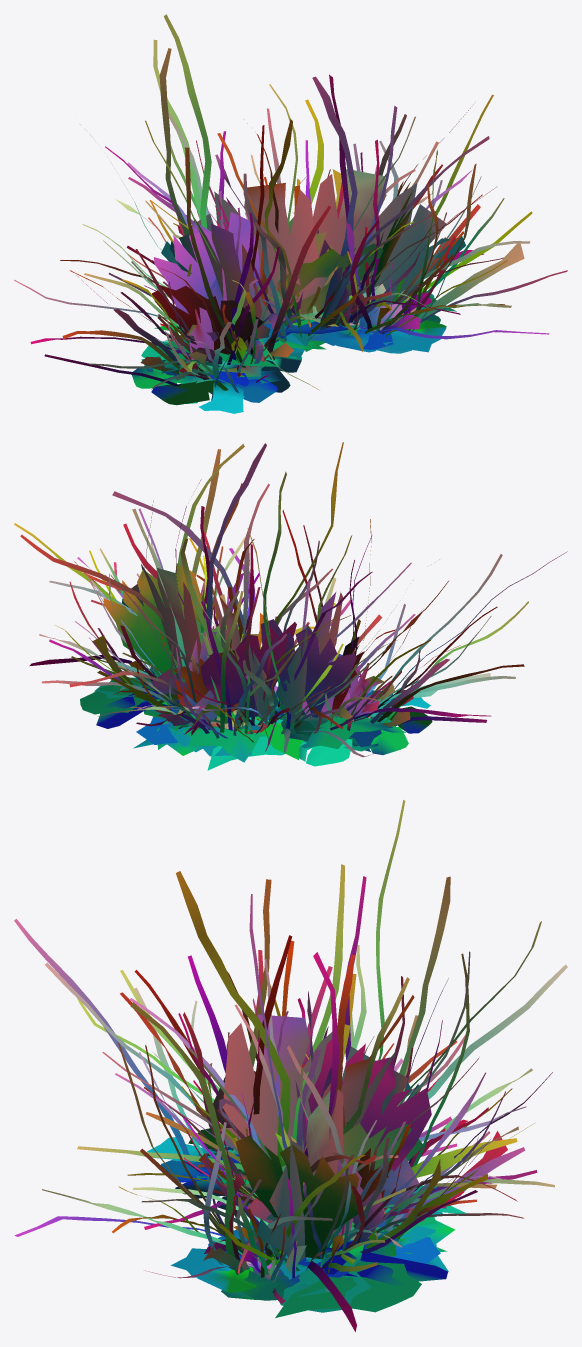
Rendered from Wild_Grass_vdilbaiia_Mid_vdilbaiia_VarH_LOD0.fbx.
3 views of the same model, one above another, from view 1: azimuth 30°, elevation 25°; view 2: azimuth 150°, elevation 25°; view 3: azimuth 270°, elevation 25° (orthographic). The views are drawn at different scales.
Visible parts, largest first — view 1: _ox5b_VarH_LOD1; view 2: _ox5b_VarH_LOD1; view 3: _ox5b_VarH_LOD1.
Boxes of the visible parts, x1=… form: _ox5b_VarH_LOD1: x1=14, y1=14, x2=567, y2=413; _ox5b_VarH_LOD1: x1=14, y1=442, x2=567, y2=770; _ox5b_VarH_LOD1: x1=14, y1=800, x2=567, y2=1331.
Size of the model in its own units: 151 by 94.37 by 122.
